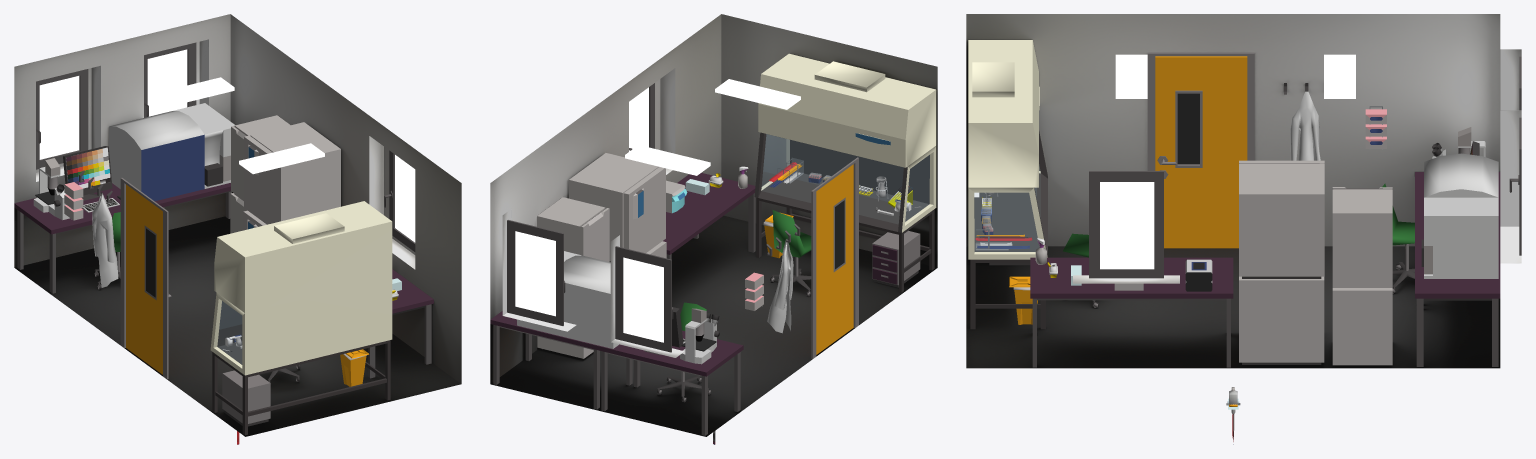
File: lab_complete.glb
The picture shows the model from 3 angles, left to right: view 1: azimuth 30°, elevation 25°; view 2: azimuth 150°, elevation 25°; view 3: azimuth 270°, elevation 25°; orthographic projection. The views are drawn at different scales.
Visible parts, largest first — view 1: walls_lm, hood, windows, fax_sorter, door, tables, incubator_top, lights_ceiling, incubator_top_door, drawer, monitor, labcoat_baked (+7 smaller); view 2: walls_lm, hood, windows, tables, door, fax_sorter, incubator_top, incubator_top_door, lights_ceiling, fridge, microscope, chair_hood (+6 smaller); view 3: walls_lm, door, hood, tables, incubator_top, fax_sorter, windows, incubator_bottom, fridge, freezer, lights_ceiling, labcoat_baked (+5 smaller).
Part boxes in pixels (bbox=[...]): walls_lm: bbox=[14, 14, 461, 436]; hood: bbox=[210, 201, 392, 435]; windows: bbox=[36, 42, 415, 251]; fax_sorter: bbox=[109, 103, 234, 201]; door: bbox=[120, 178, 171, 379]; tables: bbox=[14, 183, 433, 378]; incubator_top: bbox=[250, 122, 340, 219]; lights_ceiling: bbox=[149, 77, 324, 174]; incubator_top_door: bbox=[244, 135, 286, 224]; drawer: bbox=[222, 370, 270, 426]; monitor: bbox=[63, 146, 112, 200]; labcoat_baked: bbox=[92, 193, 118, 287]; walls_lm: bbox=[490, 14, 937, 436]; hood: bbox=[754, 53, 936, 292]; windows: bbox=[507, 83, 673, 352]; tables: bbox=[490, 173, 755, 435]; door: bbox=[811, 157, 858, 358]; fax_sorter: bbox=[517, 251, 618, 348]; incubator_top: bbox=[569, 153, 658, 262]; incubator_top_door: bbox=[623, 167, 665, 253]; lights_ceiling: bbox=[625, 79, 800, 175]; fridge: bbox=[537, 197, 605, 254]; microscope: bbox=[680, 308, 719, 364]; chair_hood: bbox=[770, 210, 811, 296]; walls_lm: bbox=[966, 14, 1521, 368]; door: bbox=[1147, 52, 1254, 248]; hood: bbox=[968, 40, 1047, 329]; tables: bbox=[1030, 172, 1500, 367]; incubator_top: bbox=[1239, 164, 1324, 278]; fax_sorter: bbox=[1421, 153, 1498, 278]; windows: bbox=[1089, 56, 1521, 278]; incubator_bottom: bbox=[1239, 276, 1324, 364]; fridge: bbox=[1332, 189, 1392, 287]; freezer: bbox=[1332, 288, 1392, 365]; lights_ceiling: bbox=[1115, 54, 1355, 98]; labcoat_baked: bbox=[1290, 91, 1320, 160].
Bounding box in the file's own units: 2.9 × 3.82 × 5.2.
16 materials, 12 textured.
